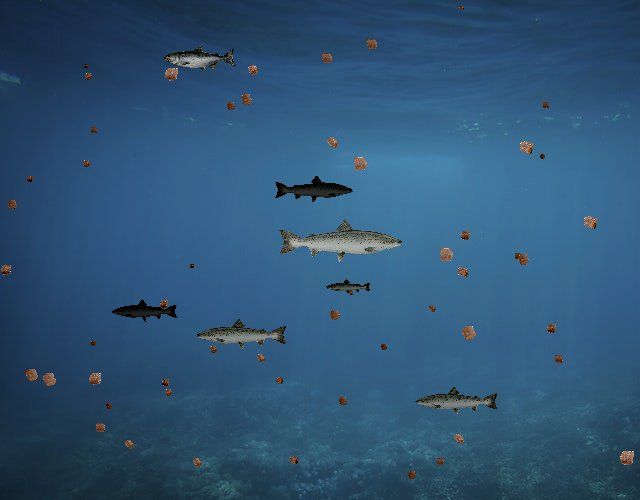Fish: (276, 217, 405, 263), (196, 317, 290, 351), (414, 385, 500, 416), (274, 174, 355, 203), (165, 45, 238, 71), (112, 298, 180, 322), (326, 279, 373, 296)
Pellet: (612, 442, 640, 473), (157, 60, 185, 88), (320, 131, 344, 155), (234, 88, 258, 112), (241, 59, 264, 82), (2, 194, 23, 215), (78, 156, 94, 172), (536, 150, 549, 163), (21, 367, 33, 379)
